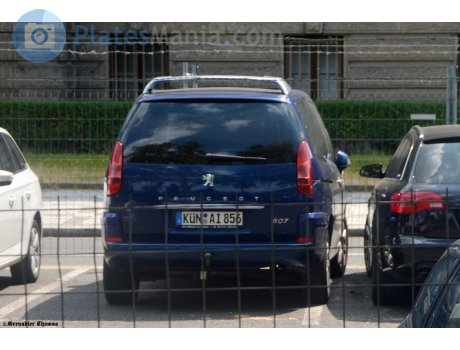License Plates: (182, 210, 237, 223)
